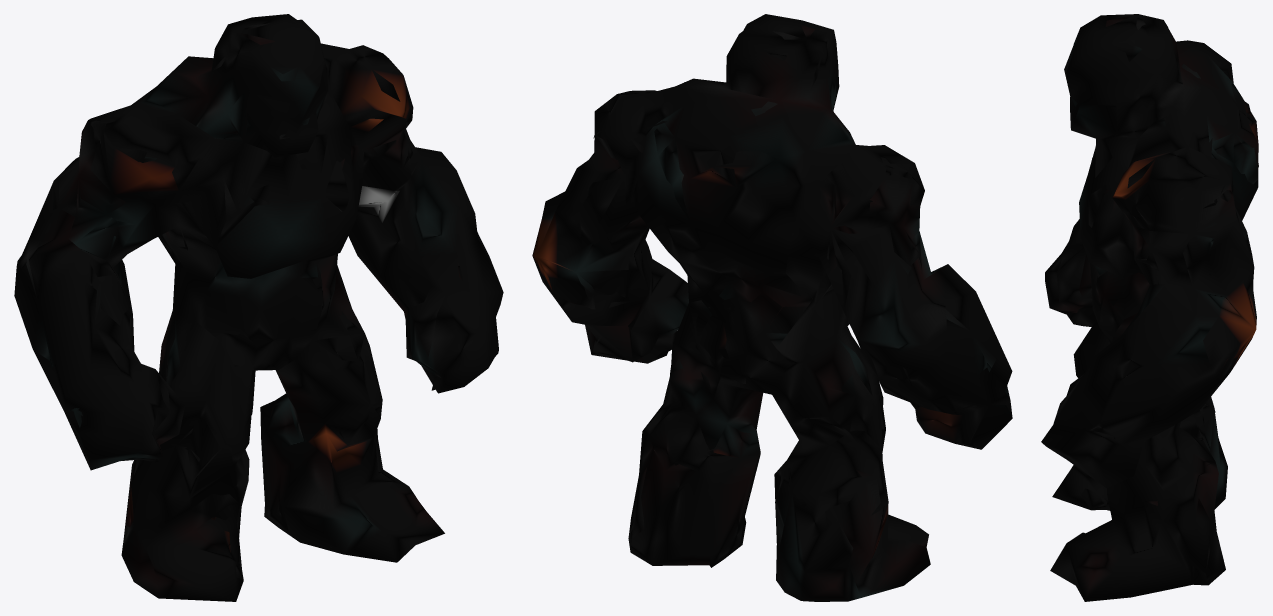
Rendered from gen3d-lava-golem-lod0.glb.
3 renders of one model, left to right at view 1: azimuth 30°, elevation 25°; view 2: azimuth 150°, elevation 25°; view 3: azimuth 270°, elevation 25°, orthographic. The views are drawn at different scales.
Visible parts, largest first — view 1: part_0; view 2: part_0; view 3: part_0.
Boxes of the visible parts, left/top/right/bottom form: part_0: left=14, top=14, right=503, bottom=601; part_0: left=532, top=14, right=1012, bottom=601; part_0: left=1041, top=14, right=1258, bottom=601.
Bounding box in the file's own units: 0.8577 × 0.9963 × 0.387.
